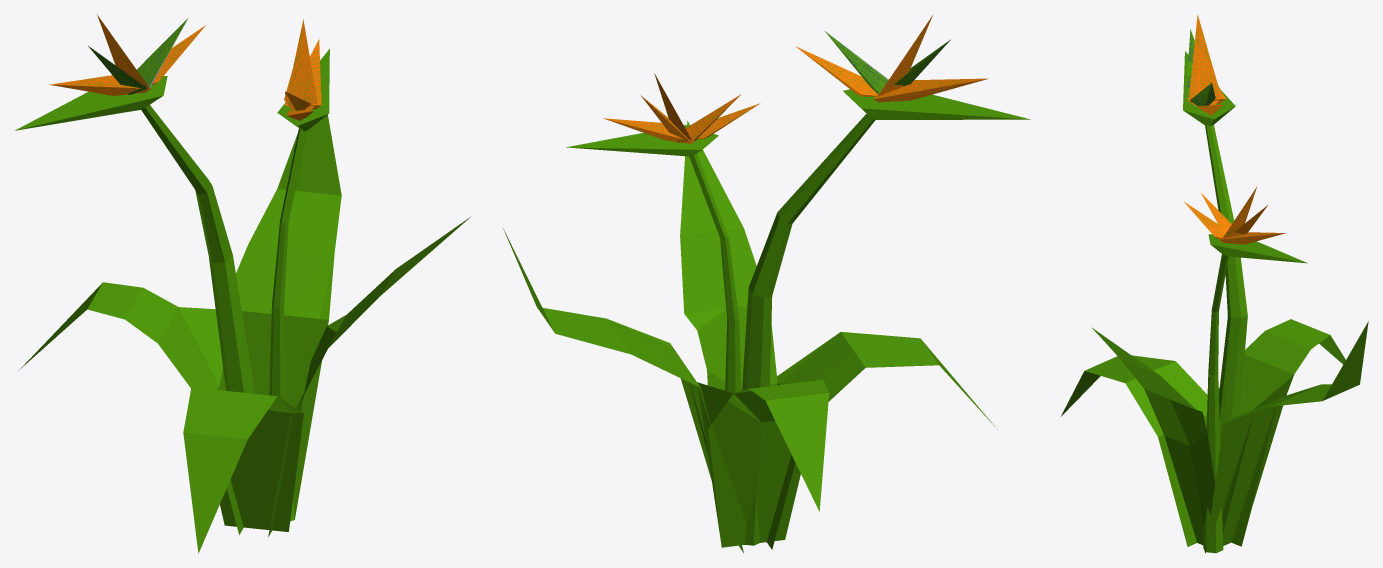
Rendered from Vegetation_Flower_Bird_Of_Paradise_01.fbx.
3 renders of one model, left to right at view 1: azimuth 30°, elevation 25°; view 2: azimuth 150°, elevation 25°; view 3: azimuth 270°, elevation 25°, orthographic. The views are drawn at different scales.
Parts seen in each view (by area): view 1: Vegetation_Flower_Bird_Of_Paradise_01; view 2: Vegetation_Flower_Bird_Of_Paradise_01; view 3: Vegetation_Flower_Bird_Of_Paradise_01.
Part boxes in pixels (bbox=[...]): Vegetation_Flower_Bird_Of_Paradise_01: bbox=[15, 14, 470, 553]; Vegetation_Flower_Bird_Of_Paradise_01: bbox=[503, 15, 1030, 552]; Vegetation_Flower_Bird_Of_Paradise_01: bbox=[1061, 15, 1368, 553].
Size of the model in its own units: 1106 by 1413 by 861.
